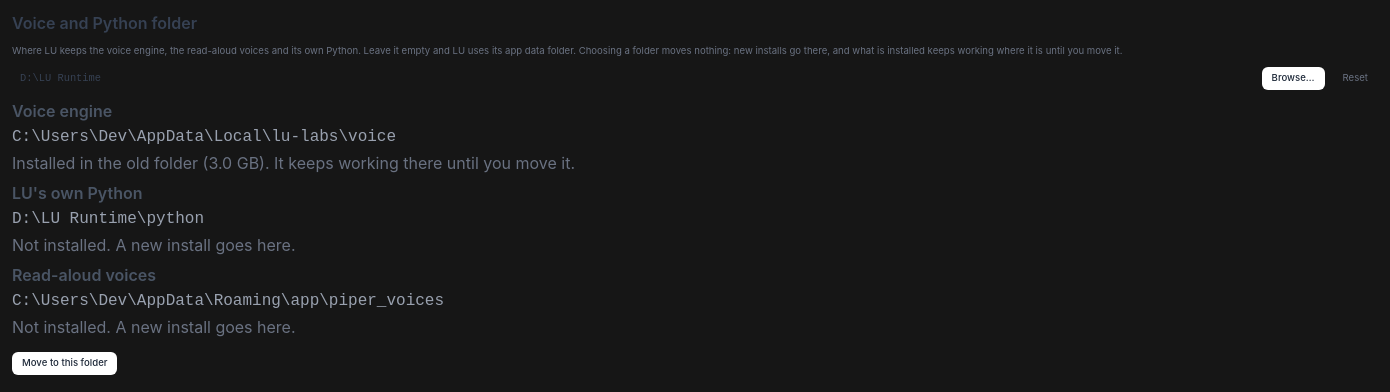
the Voice and Python folder row › Reset goes back to the app data folder
Expected: the field named "Voice and Python folder" holds "D:\\LU Runtime", [12,67,1254,90]
Click the button "Reset" at (1355, 78), box [1333,67,1378,90]
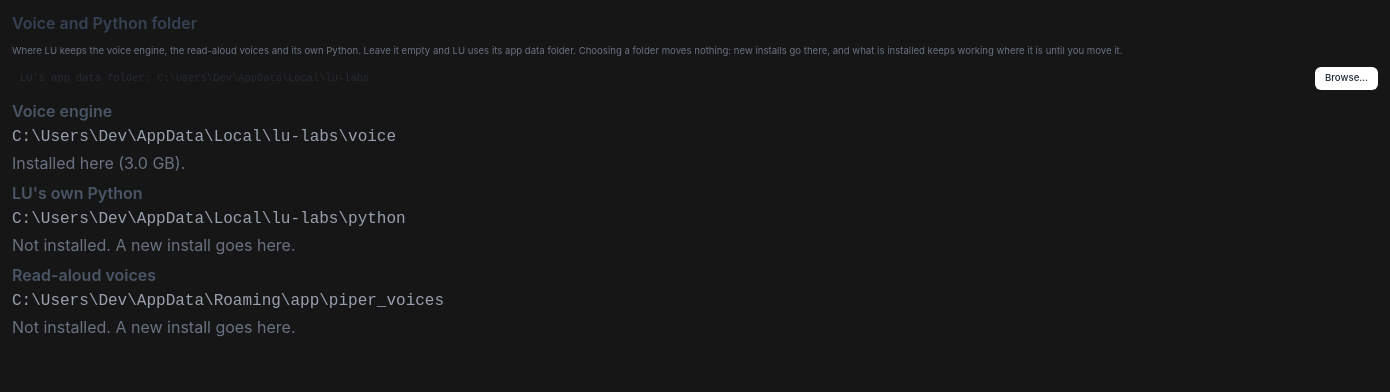
Result: the field named "Voice and Python folder" is empty at [12,67,1307,90]
